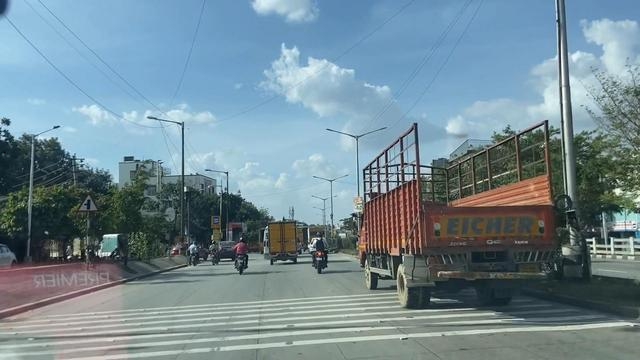HMV: (353, 152, 539, 301)
LMV: (309, 234, 328, 275), (231, 235, 249, 273)
SpeedBump: (20, 296, 593, 351)
